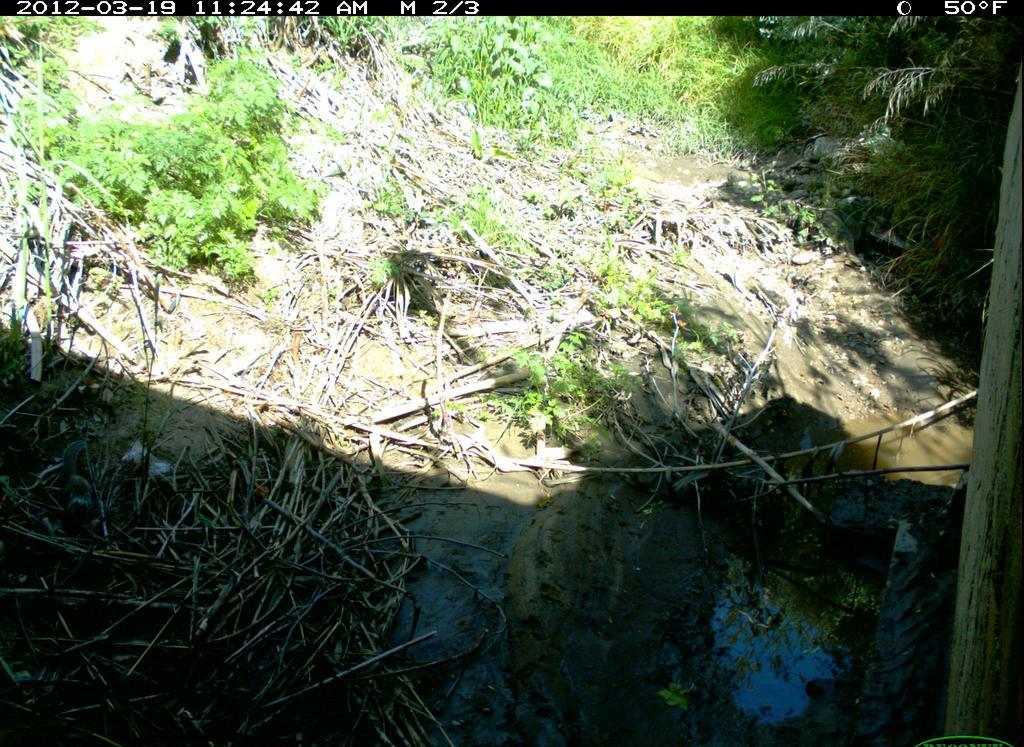squirrel: (48, 428, 114, 534)
